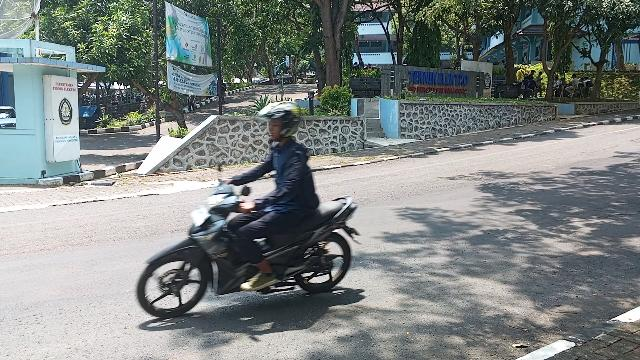helm: (261, 102, 302, 141)
motor: (138, 183, 362, 319)
